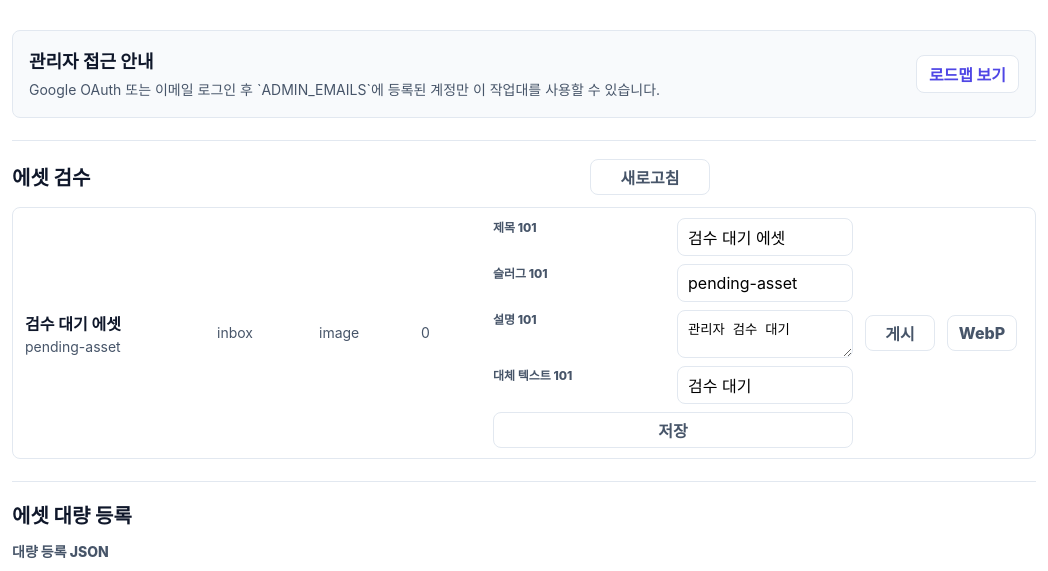
Test: AdminDashboard › publishes an asset from the inbox
What coordinates should you click on to do the following:
click the button "게시"
I would click on:
 (900, 333)
Its box is 865,315 -> 935,351.
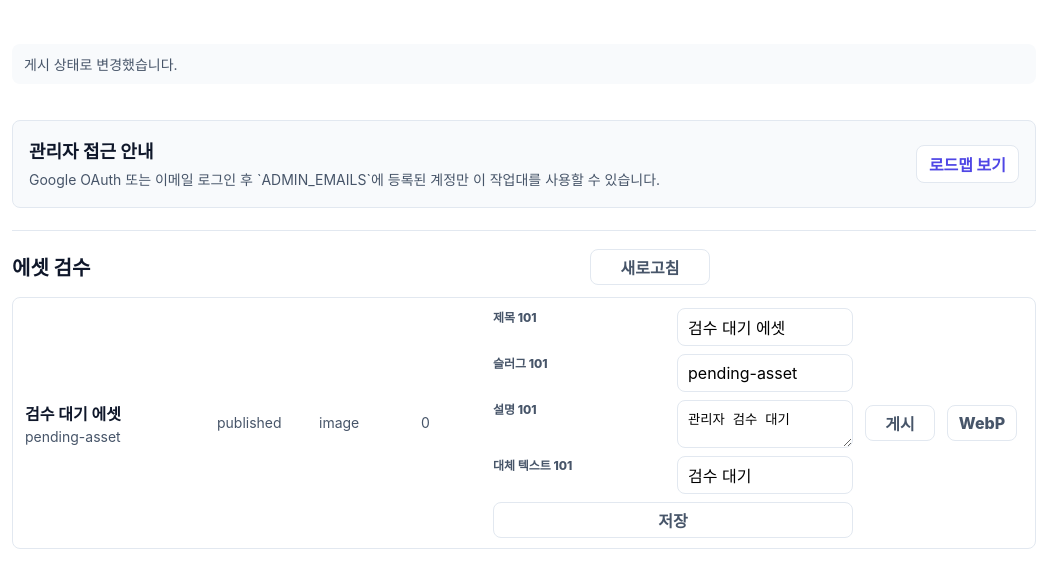
Now the text "published" is shown, box 217,414 -> 282,431
